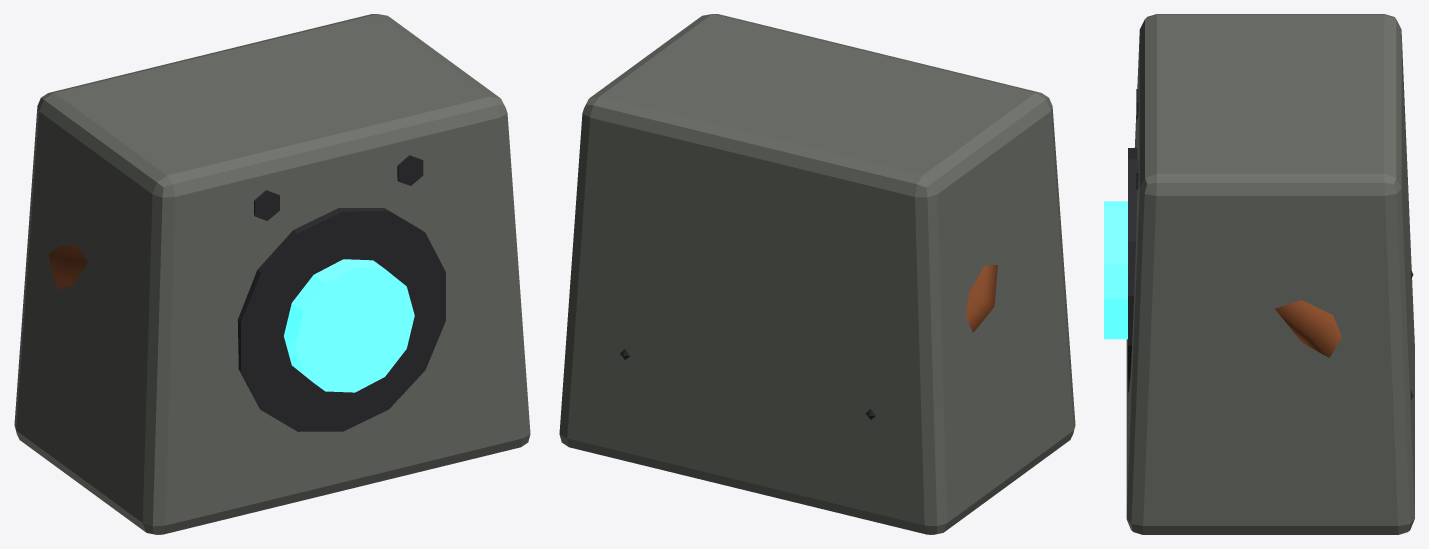
File: co_flux.glb
3 views of the same model, side by side, from view 1: azimuth 30°, elevation 25°; view 2: azimuth 150°, elevation 25°; view 3: azimuth 270°, elevation 25° (orthographic).
Parts seen in each view (by area): view 1: co_flux; view 2: co_flux; view 3: co_flux.
Part boxes in pixels (x1,y1,x2,y2): co_flux: (14, 14, 530, 534); co_flux: (559, 14, 1075, 534); co_flux: (1104, 14, 1414, 534).
Bounding box in the file's own units: 0.167 × 0.1405 × 0.1123.
